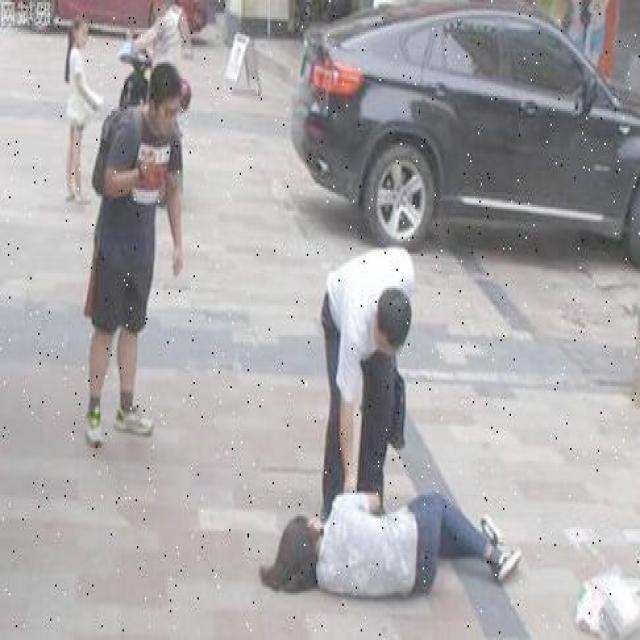fall: (279, 488, 524, 596)
